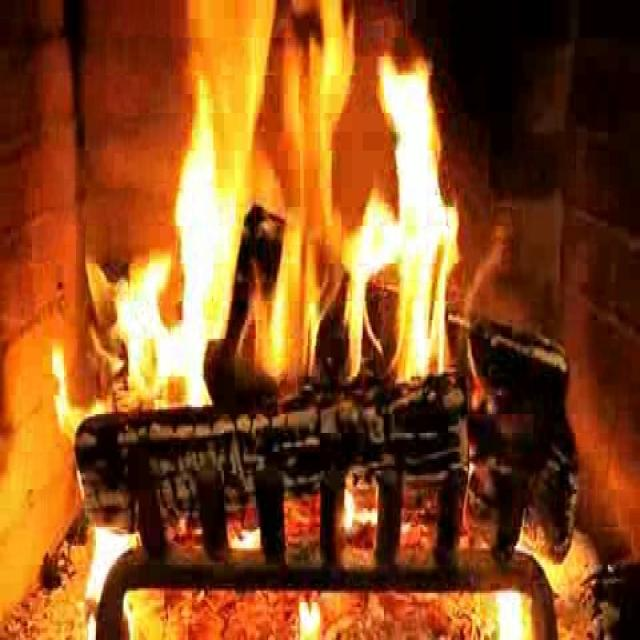fire: (137, 2, 456, 417)
